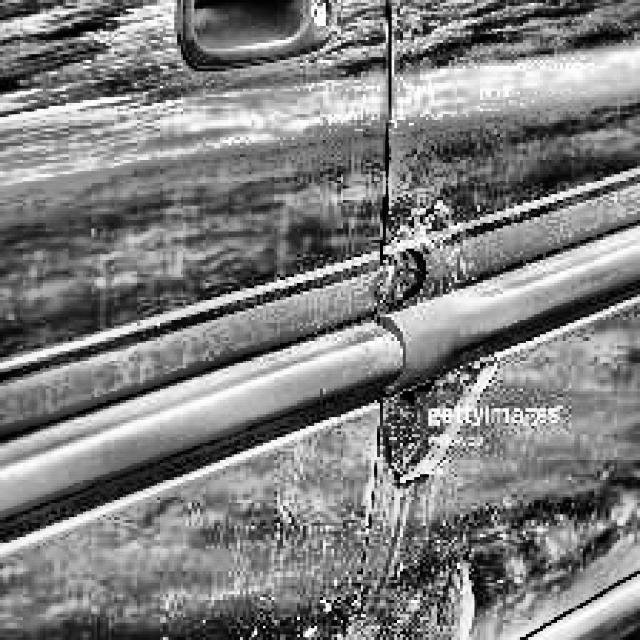door_dent: (371, 211, 492, 486)
door_scratch: (369, 374, 492, 466), (390, 204, 478, 281)
